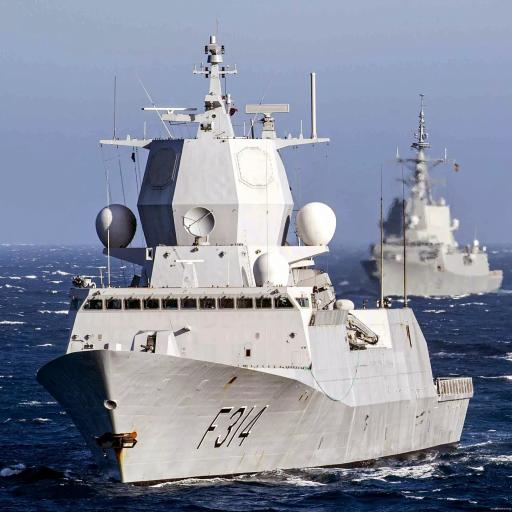Fragata: (30, 10, 479, 493), (364, 94, 506, 309)
